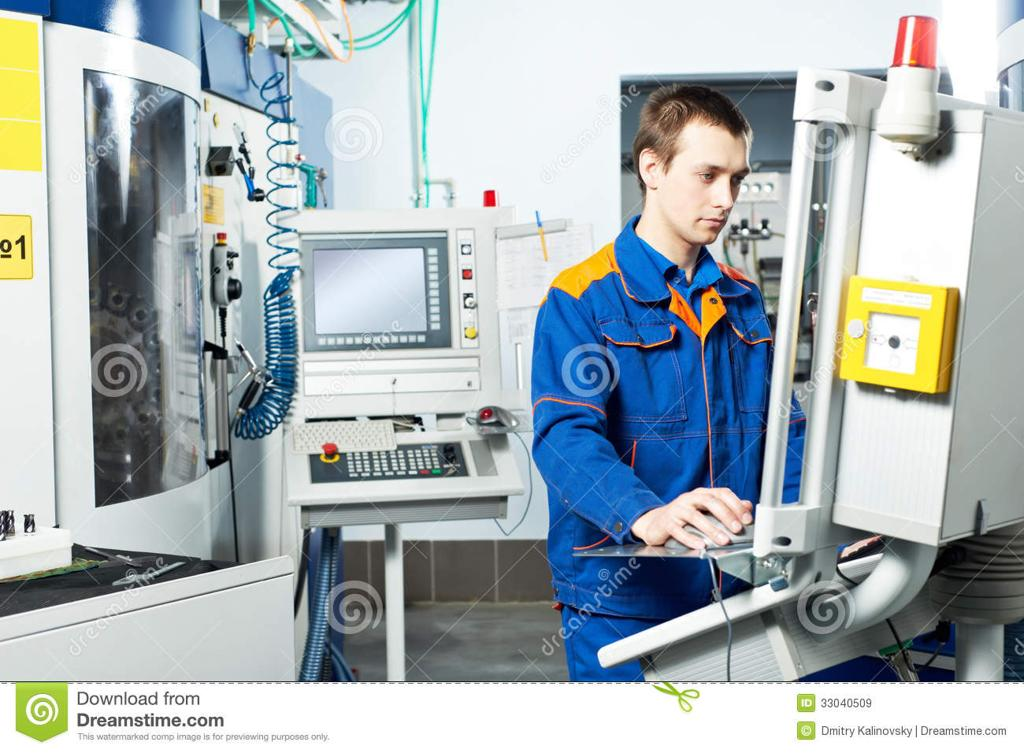face: (676, 126, 750, 248)
